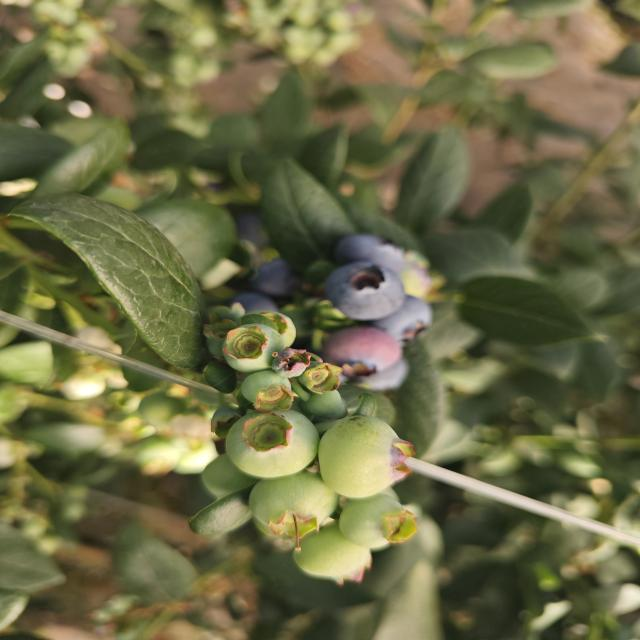ripe: (328, 266, 407, 314), (369, 292, 437, 344), (339, 232, 407, 276), (248, 257, 316, 299), (228, 290, 288, 324)
